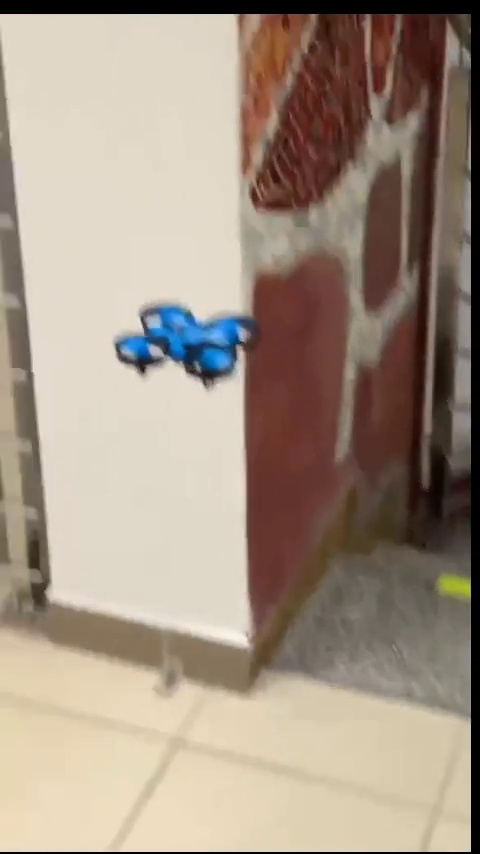drone: (111, 303, 280, 391)
